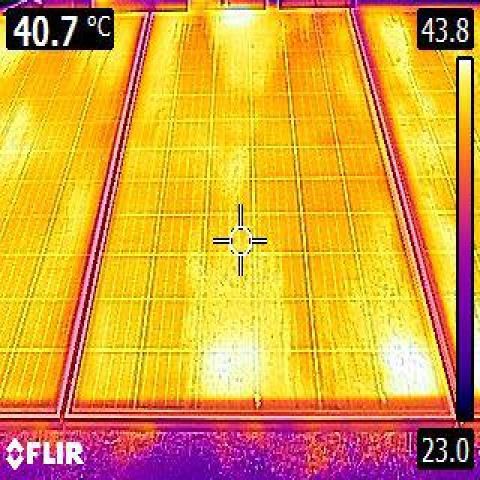fault: (381, 350, 437, 403), (203, 353, 259, 402), (224, 12, 246, 28)
